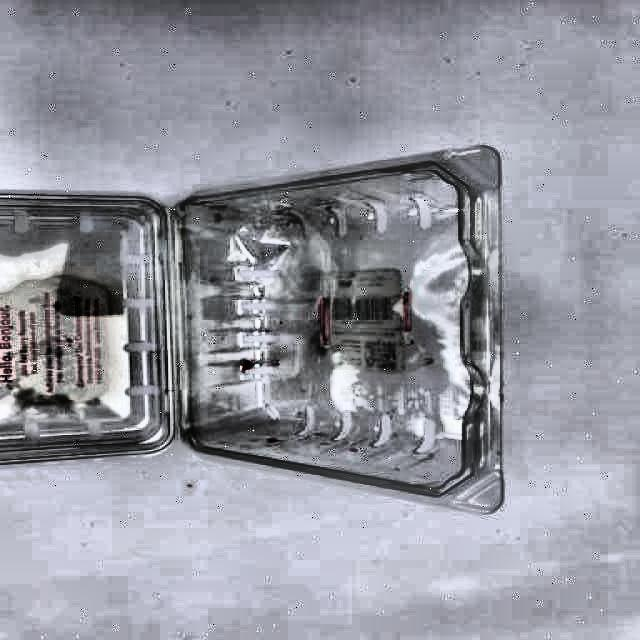plastic: (0, 148, 502, 511)
